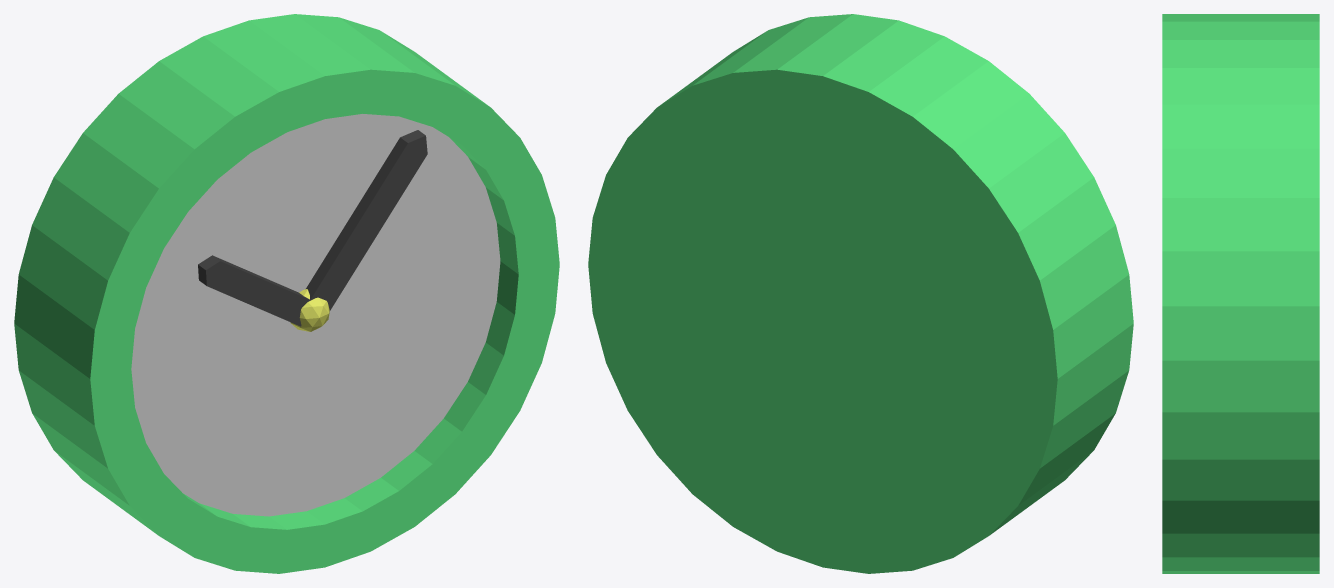
The model's file is clockItem.fbx.
The picture shows the model from 3 angles, left to right: view 1: azimuth 30°, elevation 25°; view 2: azimuth 150°, elevation 25°; view 3: azimuth 270°, elevation 25°; orthographic projection. The views are drawn at different scales.
Parts seen in each view (by area): view 1: Cylinder, Cube, Cube.001, Icosphere; view 2: Cylinder; view 3: Cylinder.
Boxes of the visible parts, bbox=[...] form: Cylinder: bbox=[14, 14, 559, 573]; Cube: bbox=[306, 130, 427, 310]; Cube.001: bbox=[198, 255, 309, 326]; Icosphere: bbox=[290, 289, 329, 331]; Cylinder: bbox=[588, 14, 1133, 573]; Cylinder: bbox=[1162, 14, 1319, 573].
Bounding box in the file's own units: 200 × 200 × 56.17.
